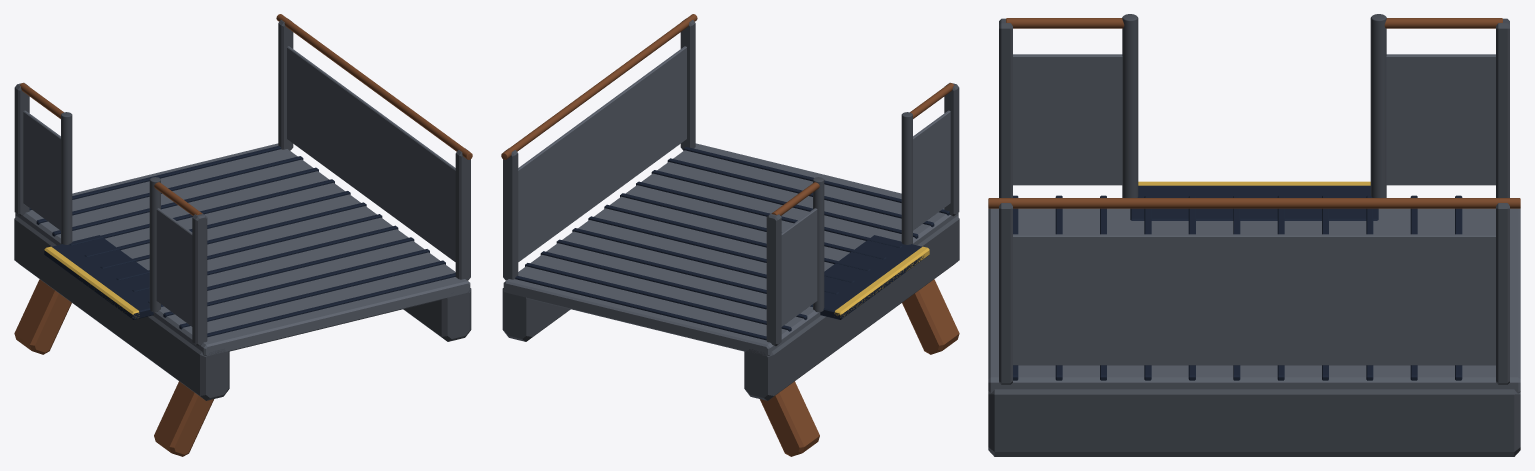
File: spire_fireescape_v1.glb
3 views of the same model, side by side, from view 1: azimuth 30°, elevation 25°; view 2: azimuth 150°, elevation 25°; view 3: azimuth 270°, elevation 25° (orthographic). The views are drawn at different scales.
Visible parts, largest first — view 1: escape_deck, escape_mesh_o, escape_stringer-1, escape_threshold, escape_mesh_g-1, escape_mesh_g1, escape_bracket1.1, escape_bracket-1.1, escape_stringer1, escape_post_g1, escape_post_o2, escape_rail_o (+17 smaller); view 2: escape_deck, escape_mesh_o, escape_stringer-1, escape_threshold, escape_mesh_g1, escape_mesh_g-1, escape_bracket-1.1, escape_bracket1.1, escape_stringer1, escape_post_g-1, escape_post_o1, escape_rail_o (+17 smaller); view 3: escape_mesh_o, escape_stringer1, escape_deck, escape_mesh_g-1, escape_mesh_g1, escape_rail_o, escape_threshold, escape_stanchion1, escape_stanchion-1, escape_post_o1, escape_post_o2, escape_post_g-1 (+4 smaller).
Boxes of the visible parts, x1,y1,x2,y2 form: escape_deck: (15,143,470,355); escape_mesh_o: (287,46,455,261); escape_stringer-1: (14,216,229,400); escape_threshold: (44,235,163,319); escape_mesh_g-1: (23,110,60,230); escape_mesh_g1: (156,208,192,326); escape_bracket1.1: (154,381,213,456); escape_bracket-1.1: (14,279,71,354); escape_stringer1: (403,288,471,341); escape_post_g1: (192,213,207,346); escape_post_o2: (455,148,470,280); escape_rail_o: (276,14,472,159); escape_deck: (503,143,958,355); escape_mesh_o: (518,46,686,261); escape_stringer-1: (744,216,959,400); escape_threshold: (810,235,928,319); escape_mesh_g1: (913,110,950,230); escape_mesh_g-1: (781,208,817,326); escape_bracket-1.1: (760,381,819,456); escape_bracket1.1: (902,279,959,354); escape_stringer1: (502,288,570,341); escape_post_g-1: (766,213,781,346); escape_post_o1: (503,148,518,280); escape_rail_o: (501,14,697,159); escape_mesh_o: (1013,234,1495,365); escape_stringer1: (988,389,1520,456); escape_deck: (988,208,1520,393); escape_mesh_g-1: (1386,54,1495,185); escape_mesh_g1: (1013,54,1122,185); escape_rail_o: (988,198,1520,208); escape_threshold: (1130,185,1378,220); escape_stanchion1: (1122,14,1138,197); escape_stanchion-1: (1370,14,1386,197); escape_post_o1: (1496,203,1509,384); escape_post_o2: (999,203,1012,384); escape_post_g-1: (1496,18,1509,197).
Size of the model in its own units: 2.66 by 2.19 by 3.
